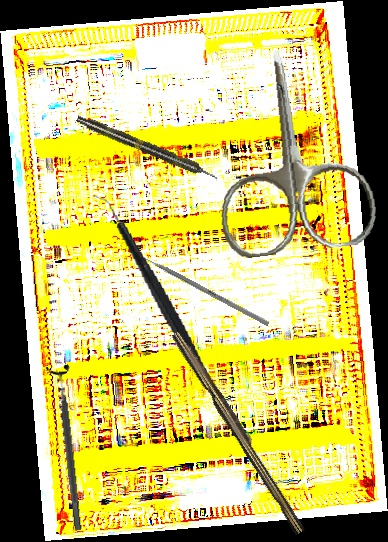Chopper: (88, 181, 220, 410)
Fixation Ring: (44, 364, 92, 532)
Handpiece: (74, 112, 221, 185)
Iris Scissors: (201, 41, 380, 261)
Pusher: (126, 246, 270, 327)
Scalpel Handle: (167, 328, 312, 536)
